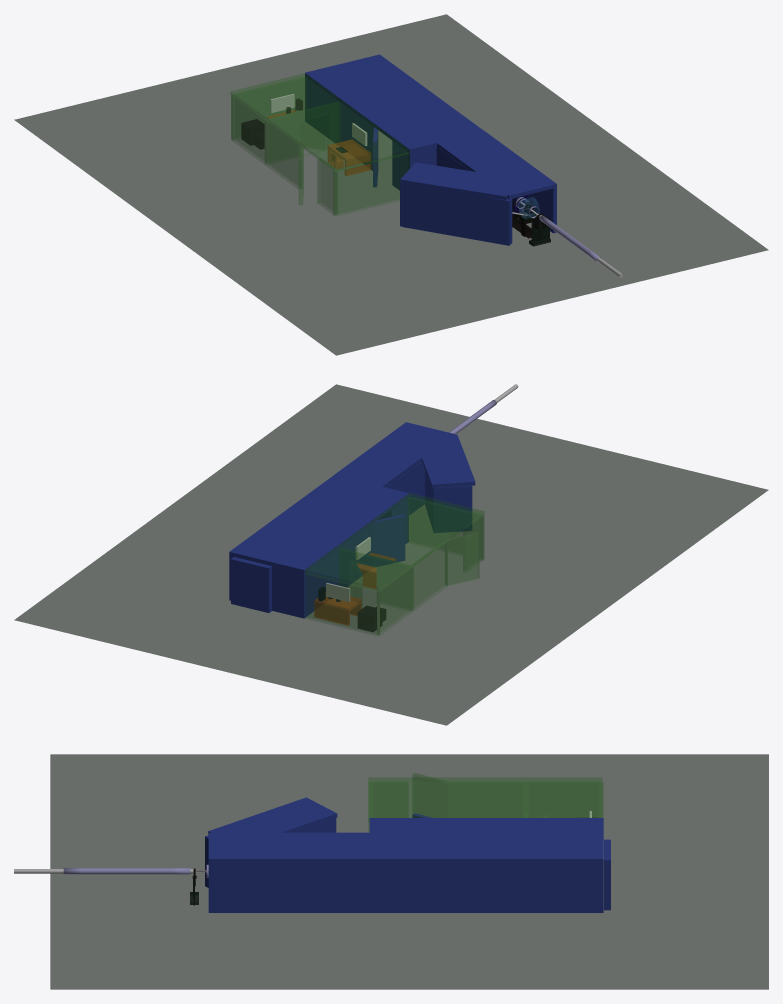
File: next.obj
The picture shows the model from 3 angles, top to bottom: view 1: azimuth 30°, elevation 25°; view 2: azimuth 150°, elevation 25°; view 3: azimuth 270°, elevation 25°; orthographic projection. The views are drawn at different scales.
Visible parts, largest first — view 1: Plane, Cube.010_Cube.003, Cube.000_Cube.002, Cube.155_Cube.015, Cube.012_Cube.011, Cube.015_Cube.006, Cube.001_Cube.012, Cube.011_Cube.003, Cube.050_Cube.058, Cube.167_Cube.047, Cube.009_Cube.003, Cube_Cube.078 (+2 smaller); view 2: Plane, Cube.000_Cube.002, Cube.010_Cube.003, Cube.012_Cube.011, Cube.015_Cube.006, Cube.009_Cube.003, Cube.011_Cube.003, Cube.001_Cube.012, Cube.167_Cube.047, Cube.050_Cube.058, Cube.138_Cube.144, Cube.156_Cube.020 (+5 smaller); view 3: Plane, Cube.008_Cube.002, Cube.000_Cube.002, Cube.010_Cube.003, Cube.013_Cube.004, Cube.012_Cube.011, Cube.015_Cube.006, Cube.167_Cube.047, Cube.006_Cube.009, Surface.011_Surface.015, Cube.138_Cube.144.
Boxes of the visible parts, x1,y1,x2,y2 form: Plane: [14, 14, 768, 355]; Cube.010_Cube.003: [230, 73, 409, 171]; Cube.000_Cube.002: [305, 54, 484, 152]; Cube.155_Cube.015: [402, 183, 511, 245]; Cube.012_Cube.011: [231, 95, 337, 215]; Cube.015_Cube.006: [437, 131, 556, 199]; Cube.001_Cube.012: [306, 77, 408, 190]; Cube.011_Cube.003: [333, 152, 409, 215]; Cube.050_Cube.058: [265, 102, 338, 164]; Cube.167_Cube.047: [400, 162, 507, 200]; Cube.009_Cube.003: [231, 77, 304, 139]; Cube_Cube.078: [327, 139, 371, 175]; Plane: [14, 384, 768, 725]; Cube.000_Cube.002: [229, 475, 408, 573]; Cube.010_Cube.003: [305, 493, 484, 591]; Cube.012_Cube.011: [377, 516, 483, 634]; Cube.015_Cube.006: [334, 422, 454, 487]; Cube.009_Cube.003: [304, 573, 379, 635]; Cube.011_Cube.003: [408, 497, 484, 560]; Cube.001_Cube.012: [305, 498, 407, 617]; Cube.167_Cube.047: [414, 434, 475, 488]; Cube.050_Cube.058: [340, 548, 413, 610]; Cube.138_Cube.144: [231, 557, 271, 612]; Cube.156_Cube.020: [434, 485, 472, 532]; Plane: [50, 754, 768, 989]; Cube.008_Cube.002: [371, 863, 601, 912]; Cube.000_Cube.002: [369, 818, 603, 862]; Cube.010_Cube.003: [368, 777, 602, 821]; Cube.013_Cube.004: [208, 863, 369, 912]; Cube.012_Cube.011: [373, 782, 599, 817]; Cube.015_Cube.006: [208, 832, 369, 862]; Cube.167_Cube.047: [208, 797, 337, 834]; Cube.006_Cube.009: [412, 773, 449, 817]; Surface.011_Surface.015: [63, 868, 190, 874]; Cube.138_Cube.144: [604, 839, 610, 910].
Size of the model in its own units: 24.27 by 2.78 by 32.88.
